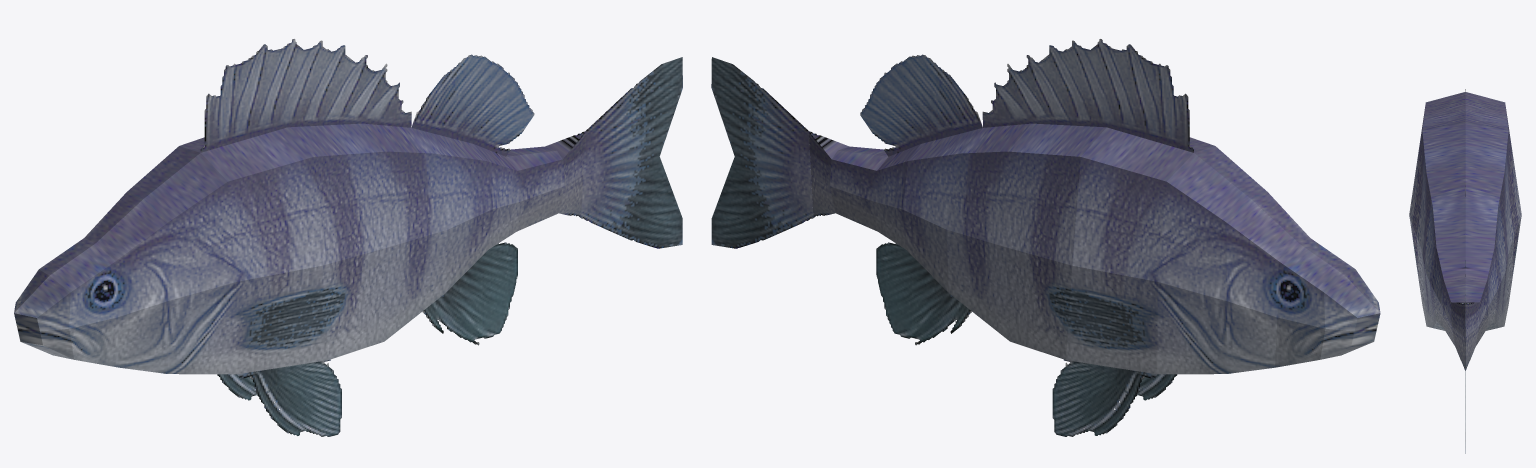
The model's file is Crystalspine.fbx.
3 renders of one model, left to right at view 1: azimuth 30°, elevation 25°; view 2: azimuth 150°, elevation 25°; view 3: azimuth 270°, elevation 25°, orthographic. The views are drawn at different scales.
Parts seen in each view (by area): view 1: Perch; view 2: Perch; view 3: Perch.
Part boxes in pixels (box(x1,y1,x2,y2)): Perch: box(14, 39, 682, 436); Perch: box(711, 39, 1380, 436); Perch: box(1409, 89, 1521, 453).
Bounding box in the file's own units: 137 × 77.27 × 24.52.
Materials: 1 (1 with a texture image).
